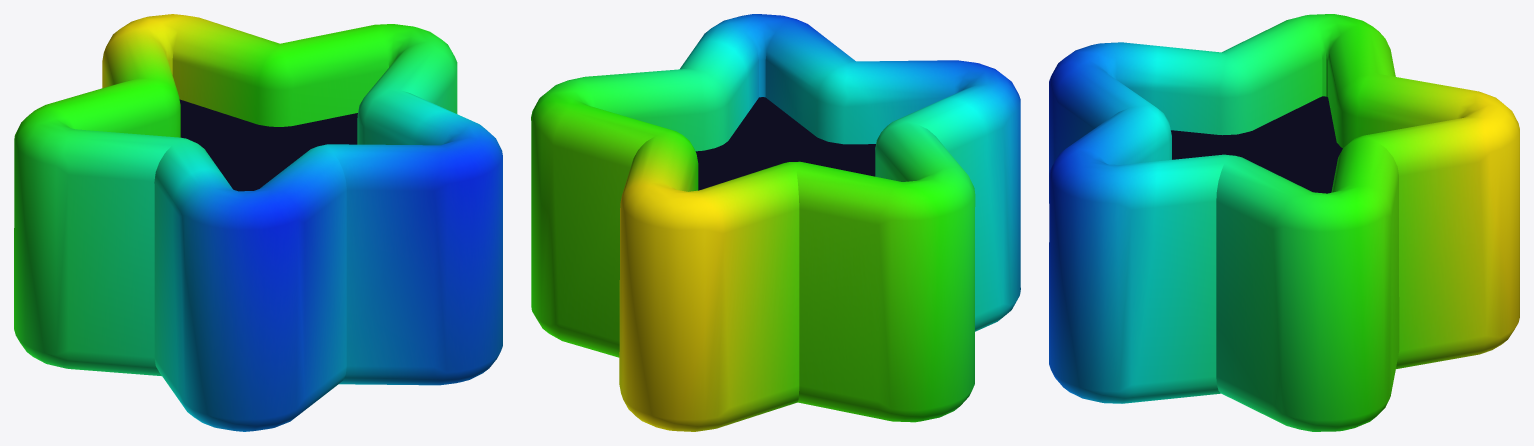
File: Particle-15.dae
The picture shows the model from 3 angles, left to right: view 1: azimuth 30°, elevation 25°; view 2: azimuth 150°, elevation 25°; view 3: azimuth 270°, elevation 25°; orthographic projection.
Parts seen in each view (by area): view 1: Particle; view 2: Particle; view 3: Particle.
Part boxes in pixels (x1=…): Particle: x1=14, y1=14, x2=502, y2=431; Particle: x1=531, y1=14, x2=1020, y2=431; Particle: x1=1049, y1=14, x2=1519, y2=431.
Bounding box in the file's own units: 0.1138 × 0.06 × 0.1098.
Materials: 2 (1 with a texture image).
